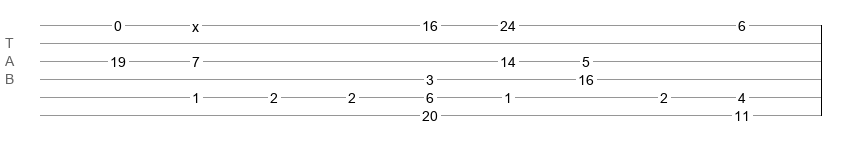0: (114, 18, 122, 28)
1: (192, 90, 200, 100), (504, 90, 512, 100)
11: (734, 108, 750, 118)
14: (500, 54, 516, 64)
16: (422, 18, 438, 28), (578, 72, 594, 82)
19: (110, 54, 126, 64)
2: (270, 90, 278, 100), (348, 90, 356, 100), (660, 90, 668, 100)
20: (422, 108, 438, 118)
24: (500, 18, 516, 28)
3: (426, 72, 434, 82)
4: (738, 90, 746, 100)
5: (582, 54, 590, 64)
6: (426, 90, 434, 100), (738, 18, 746, 28)
7: (192, 54, 200, 64)
x: (192, 19, 199, 27)
